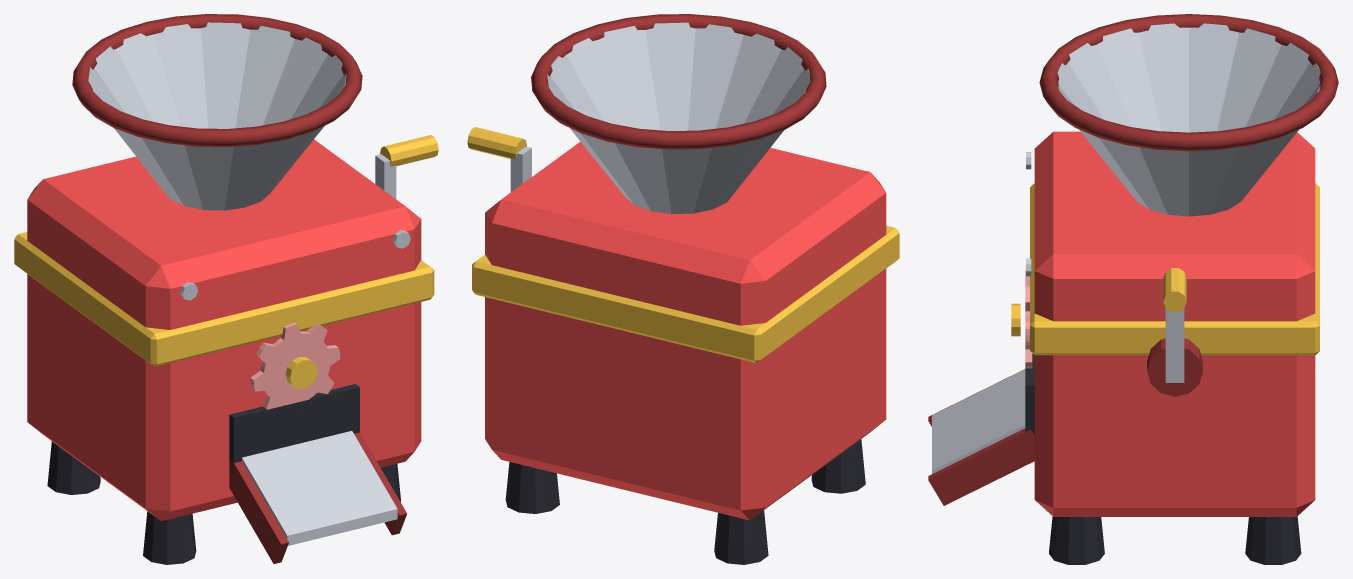
Rendered from Grinder_Red.glb.
3 views of the same model, side by side, from view 1: azimuth 30°, elevation 25°; view 2: azimuth 150°, elevation 25°; view 3: azimuth 270°, elevation 25° (orthographic). The views are drawn at different scales.
Parts seen in each view (by area): view 1: Grinder_Red_Body, Hopper_Funnel.001, Grinder_Red_Stripe, Chute_Slide.001, Hopper_Rim.001, Chute_Mouth.001, Grinder_Red_Gear, Chute_SideL.001, Grinder_Red_Foot-1-1, Grinder_Red_Foot-11, Crank_Handle.001, Chute_SideR.001 (+2 smaller); view 2: Grinder_Red_Body, Hopper_Funnel.001, Grinder_Red_Stripe, Hopper_Rim.001, Grinder_Red_Foot-11, Grinder_Red_Foot11, Grinder_Red_Foot-1-1, Crank_Handle.001, Crank_Arm.001; view 3: Grinder_Red_Body, Hopper_Funnel.001, Grinder_Red_Stripe, Hopper_Rim.001, Chute_Slide.001, Chute_SideR.001, Grinder_Red_Foot1-1, Grinder_Red_Foot11, Crank_Hub.001, Crank_Arm.001, Crank_Handle.001, Chute_Mouth.001 (+1 smaller).
Part boxes in pixels (left/top/right/bottom): Grinder_Red_Body: left=27, top=139, right=421, bottom=521; Hopper_Funnel.001: left=88, top=22, right=346, bottom=210; Grinder_Red_Stripe: left=14, top=232, right=434, bottom=366; Chute_Slide.001: left=242, top=431, right=397, bottom=545; Hopper_Rim.001: left=72, top=14, right=362, bottom=146; Chute_Mouth.001: left=229, top=384, right=359, bottom=474; Grinder_Red_Gear: left=250, top=322, right=340, bottom=409; Chute_SideL.001: left=229, top=459, right=288, bottom=563; Grinder_Red_Foot-1-1: left=143, top=511, right=196, bottom=564; Grinder_Red_Foot-11: left=47, top=441, right=100, bottom=494; Crank_Handle.001: left=380, top=135, right=438, bottom=166; Chute_SideR.001: left=354, top=432, right=407, bottom=535; Grinder_Red_Body: left=485, top=141, right=886, bottom=520; Hopper_Funnel.001: left=547, top=22, right=810, bottom=214; Grinder_Red_Stripe: left=472, top=226, right=899, bottom=363; Hopper_Rim.001: left=531, top=14, right=826, bottom=149; Grinder_Red_Foot-11: left=714, top=510, right=768, bottom=564; Grinder_Red_Foot11: left=505, top=462, right=559, bottom=513; Grinder_Red_Foot-1-1: left=811, top=439, right=865, bottom=493; Crank_Handle.001: left=467, top=127, right=526, bottom=159; Crank_Arm.001: left=510, top=146, right=531, bottom=192; Grinder_Red_Body: left=1034, top=131, right=1315, bottom=516; Hopper_Funnel.001: left=1057, top=23, right=1320, bottom=216; Grinder_Red_Stripe: left=1030, top=183, right=1319, bottom=355; Hopper_Rim.001: left=1039, top=14, right=1338, bottom=151; Chute_Slide.001: left=932, top=369, right=1025, bottom=473; Chute_SideR.001: left=928, top=428, right=1034, bottom=505; Grinder_Red_Foot1-1: left=1049, top=516, right=1104, bottom=564; Grinder_Red_Foot11: left=1245, top=516, right=1301, bottom=564; Crank_Hub.001: left=1147, top=338, right=1202, bottom=396; Crank_Arm.001: left=1165, top=308, right=1184, bottom=382; Crank_Handle.001: left=1163, top=268, right=1186, bottom=311; Chute_Mouth.001: left=1025, top=353, right=1034, bottom=434.
Size of the model in its own units: 0.89 by 1.01 by 0.8779.
